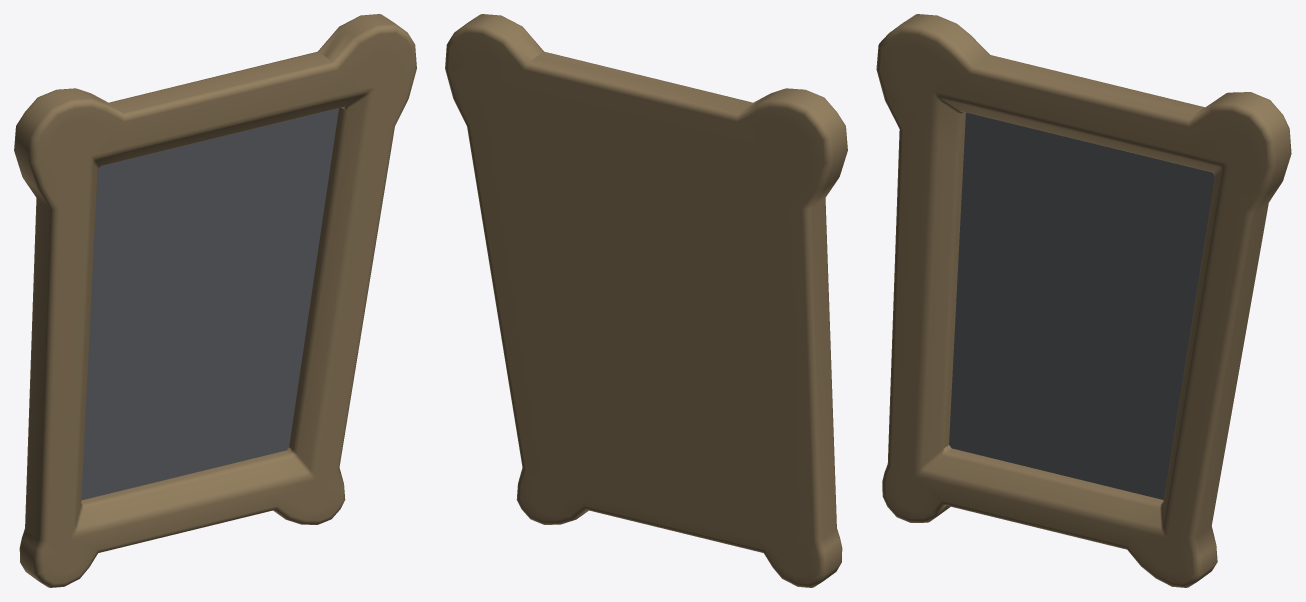
Rendered from SM_FrameTall.fbx.
3 views of the same model, side by side, from view 1: azimuth 30°, elevation 25°; view 2: azimuth 150°, elevation 25°; view 3: azimuth 330°, elevation 25° (orthographic). The views are drawn at different scales.
Visible parts, largest first — view 1: SM_FrameTall; view 2: SM_FrameTall; view 3: SM_FrameTall.
Boxes of the visible parts, <box> form: SM_FrameTall: <box>14,14,416,587</box>; SM_FrameTall: <box>445,14,847,587</box>; SM_FrameTall: <box>876,14,1291,587</box>.
Bounding box in the file's own units: 353 × 421 × 31.61.
